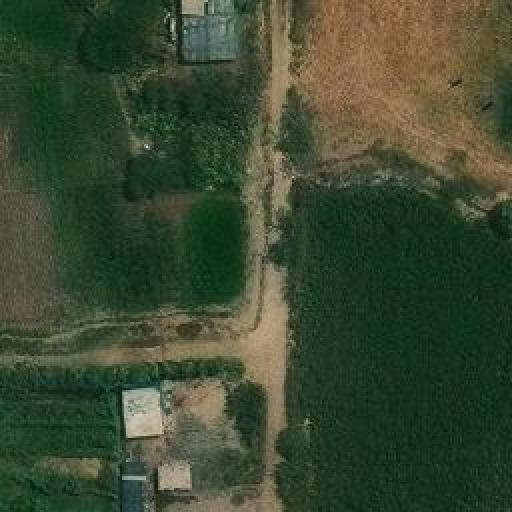manzanas: (123, 379, 195, 510), (176, 0, 245, 73)
